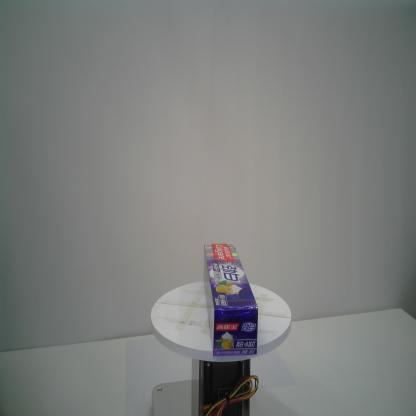Personal Hygiene: (204, 243, 258, 357)
